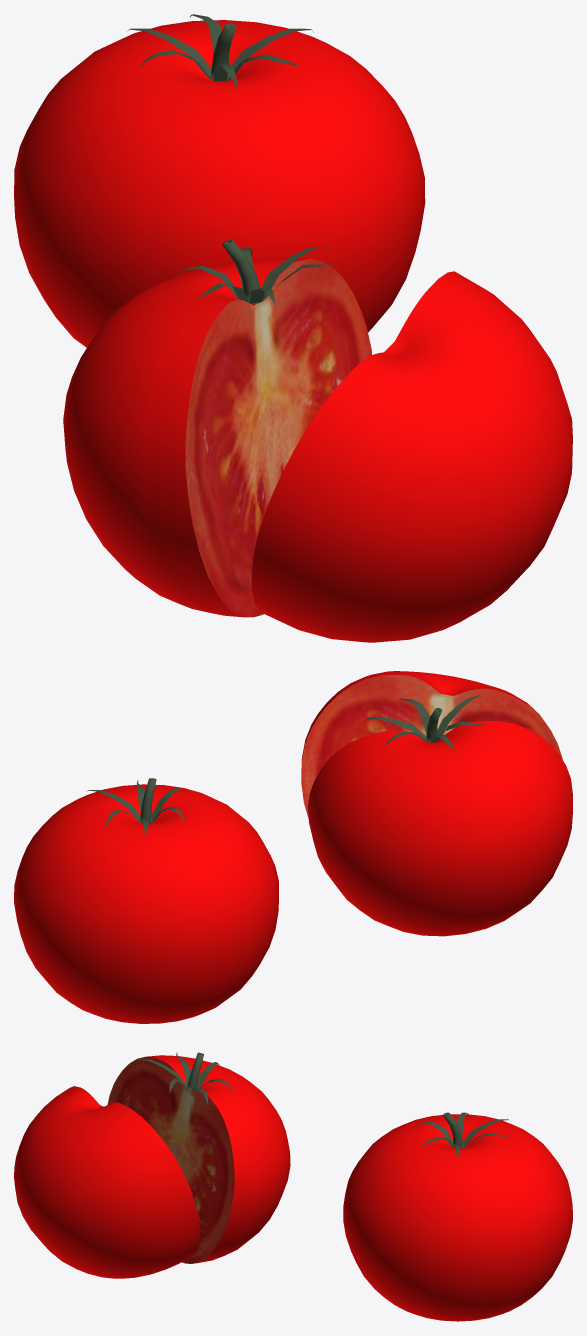
File: TomatoCutted.FBX
3 views of the same model, one above another, from view 1: azimuth 30°, elevation 25°; view 2: azimuth 150°, elevation 25°; view 3: azimuth 270°, elevation 25° (orthographic). The views are drawn at different scales.
Parts seen in each view (by area): view 1: Model_004_Tomato_06, 对象01, 对象03, 对象04, Model_004_Tomato_07, Model_004_Tomato_05; view 2: Model_004_Tomato_06, 对象03, 对象02, Model_004_Tomato_05, 对象01, Model_004_Tomato_07; view 3: Model_004_Tomato_06, 对象01, 对象04, 对象03, Model_004_Tomato_05, Model_004_Tomato_07.
Boxes of the visible parts, bbox=[...] form: Model_004_Tomato_06: bbox=[14, 20, 425, 347]; 对象01: bbox=[251, 271, 572, 642]; 对象03: bbox=[63, 258, 307, 617]; 对象04: bbox=[185, 259, 372, 617]; Model_004_Tomato_07: bbox=[127, 14, 313, 90]; Model_004_Tomato_05: bbox=[171, 240, 343, 305]; Model_004_Tomato_06: bbox=[14, 784, 278, 1023]; 对象03: bbox=[307, 721, 572, 936]; 对象02: bbox=[301, 674, 562, 817]; Model_004_Tomato_05: bbox=[366, 695, 484, 751]; 对象01: bbox=[301, 671, 541, 760]; Model_004_Tomato_07: bbox=[86, 778, 184, 836]; Model_004_Tomato_06: bbox=[343, 1114, 572, 1321]; 对象01: bbox=[14, 1086, 200, 1278]; 对象04: bbox=[107, 1056, 234, 1263]; 对象03: bbox=[147, 1055, 290, 1263]; Model_004_Tomato_05: bbox=[139, 1052, 232, 1104]; Model_004_Tomato_07: bbox=[415, 1112, 509, 1159].
Bounding box in the file's own units: 84.58 × 49.9 × 131.
